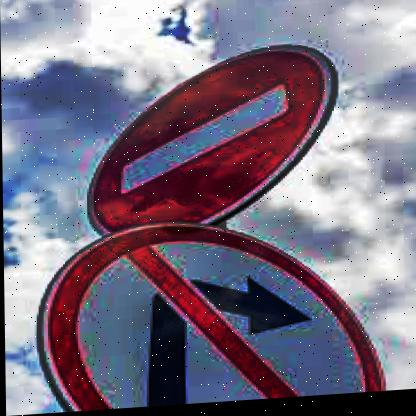No right turn: (54, 206, 389, 413)
